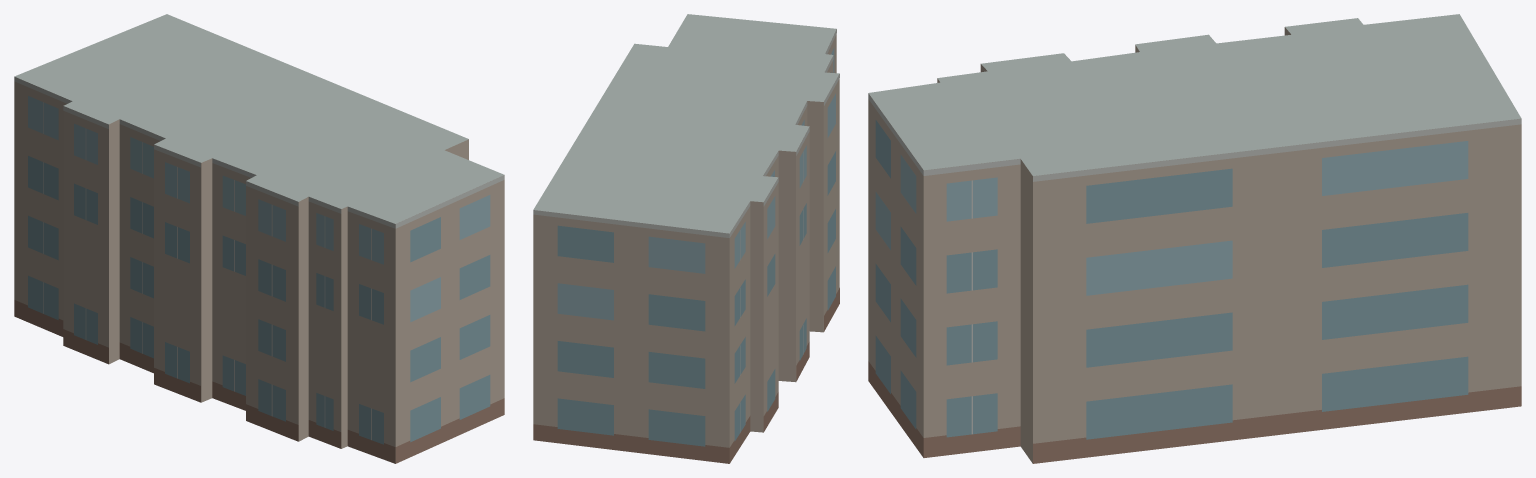
File: survey-upis-32720726.glb
The picture shows the model from 3 angles, left to right: view 1: azimuth 30°, elevation 25°; view 2: azimuth 150°, elevation 25°; view 3: azimuth 270°, elevation 25°; orthographic projection. The views are drawn at different scales.
Parts seen in each view (by area): view 1: survey-upis-32720726.tmp; view 2: survey-upis-32720726.tmp; view 3: survey-upis-32720726.tmp.
Part boxes in pixels (x1=…): survey-upis-32720726.tmp: x1=14, y1=14, x2=504, y2=463; survey-upis-32720726.tmp: x1=533, y1=14, x2=839, y2=463; survey-upis-32720726.tmp: x1=868, y1=14, x2=1521, y2=463.
Bounding box in the file's own units: 14.75 × 12.2 × 25.12.
